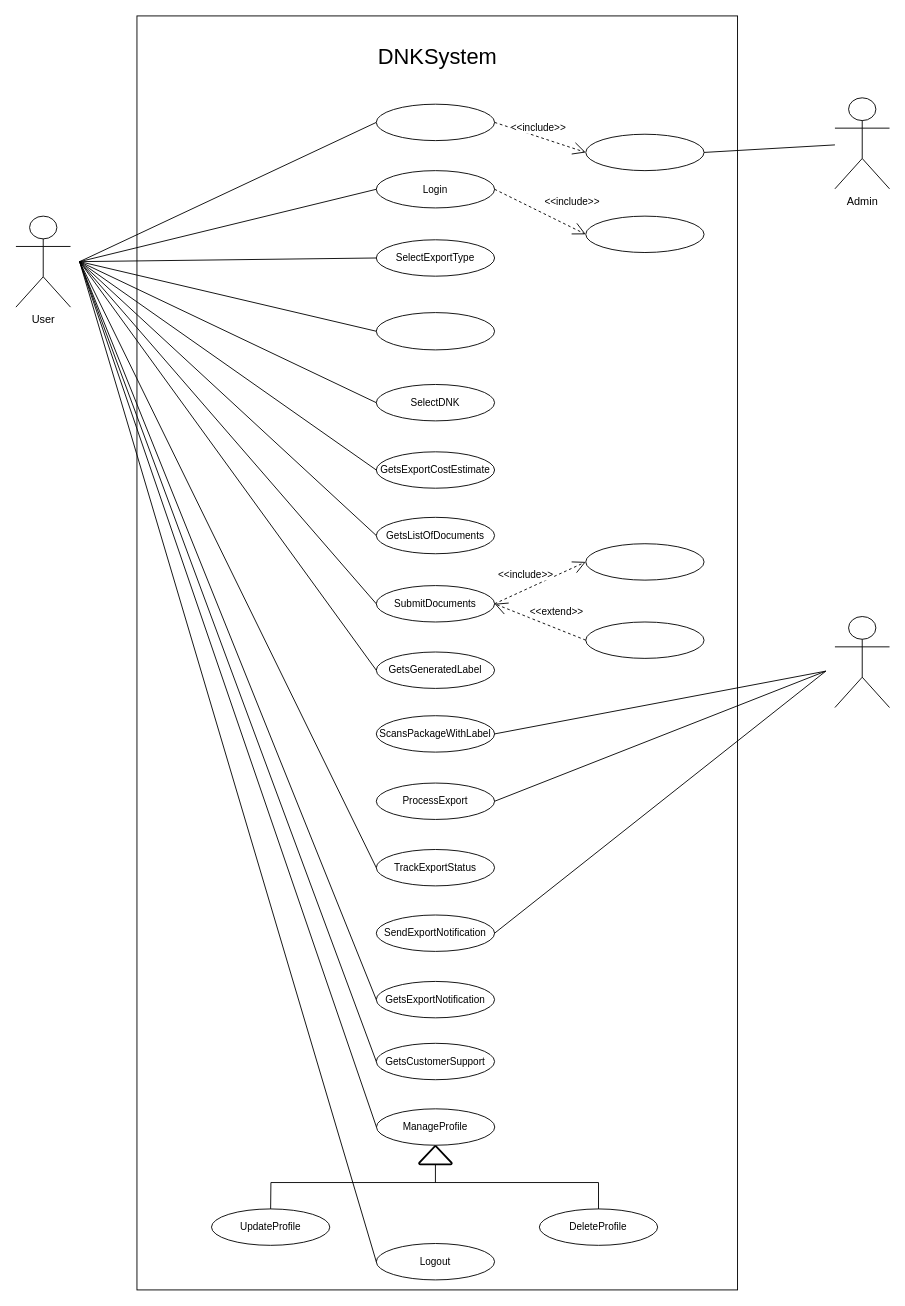
Some shapes in this 905 by 1306 pixel diagram are drawn without their labels. Here are the shapes that lost their labels. From the top down, the centre of each, then its label:
point 435,122: Registration
point 644,152: Authentication
point 644,234: ValidatePassword
point 435,331: GetsRelevantDNKs
point 644,561: ValidationOfDocuments
point 644,639: ResubmitDocuments
point 862,662: DNK
